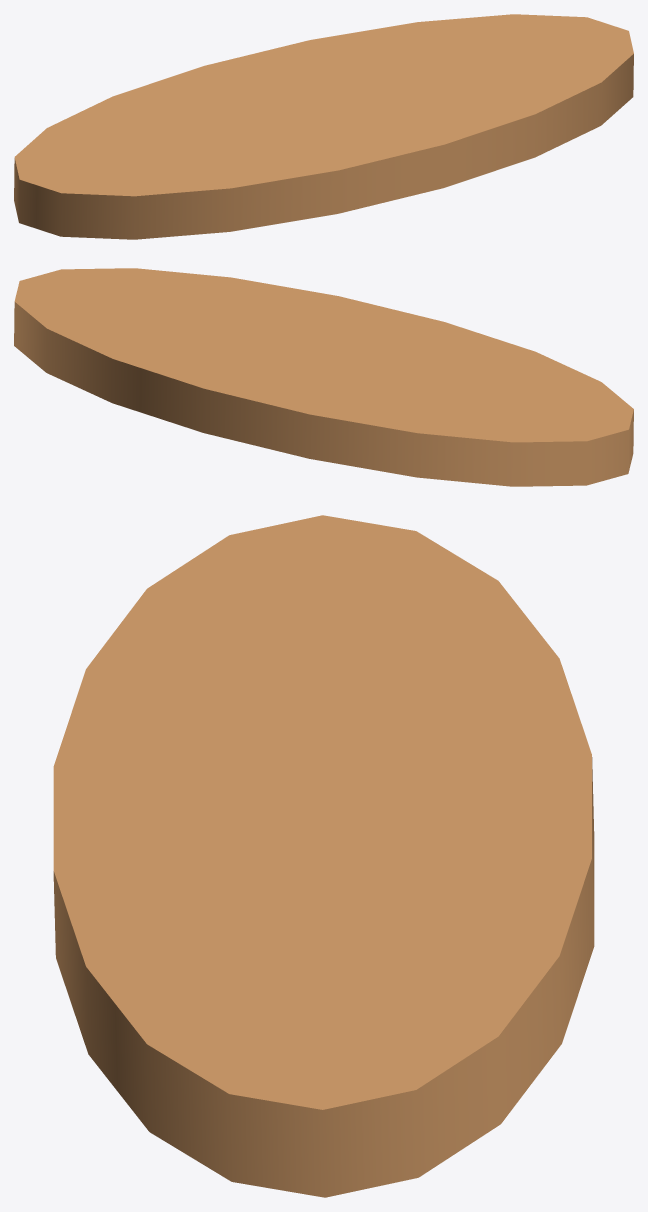
The model's file is quesadilla.obj.
3 views of the same model, one above another, from view 1: azimuth 30°, elevation 25°; view 2: azimuth 150°, elevation 25°; view 3: azimuth 270°, elevation 25° (orthographic). The views are drawn at different scales.
Visible parts, largest first — view 1: Cylinder009; view 2: Cylinder009; view 3: Cylinder009.
Part boxes in pixels (x1=…): Cylinder009: x1=14, y1=14, x2=633, y2=239; Cylinder009: x1=14, y1=268, x2=633, y2=486; Cylinder009: x1=53, y1=515, x2=594, y2=1197.
Size of the model in its own units: 10.94 by 0.8554 by 4.2.
